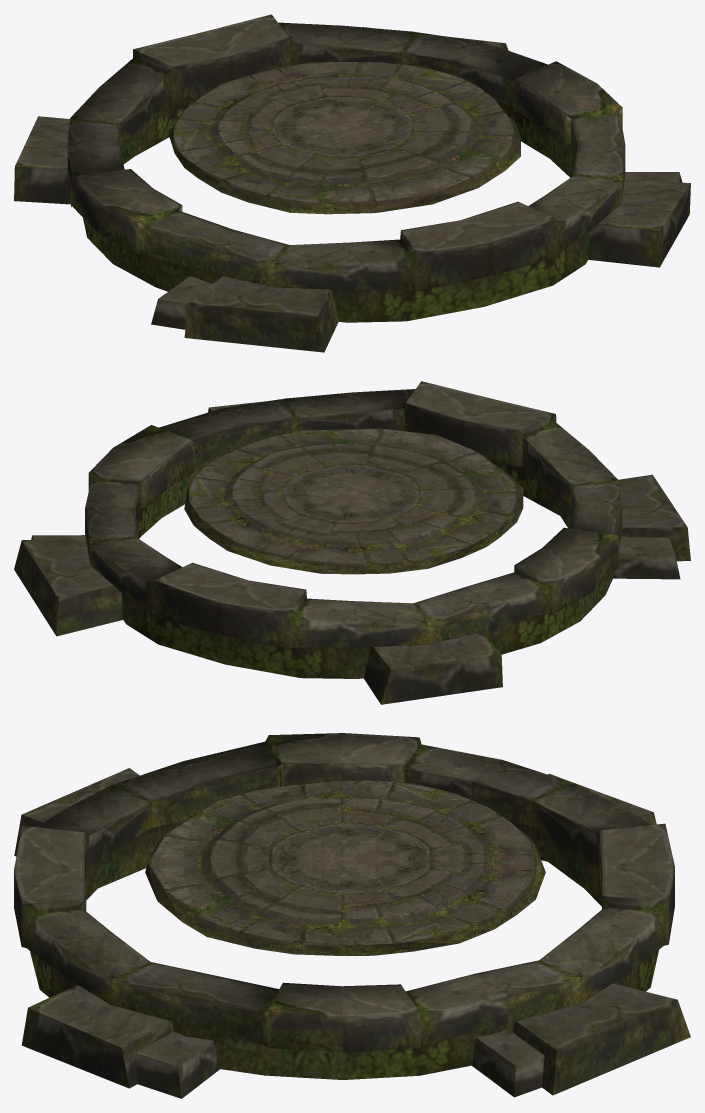
The model's file is f_1128_taizi.FBX.
3 views of the same model, one above another, from view 1: azimuth 30°, elevation 25°; view 2: azimuth 150°, elevation 25°; view 3: azimuth 270°, elevation 25° (orthographic). The views are drawn at different scales.
Visible parts, largest first — view 1: d_1140_windmill001, f_1128_taizi; view 2: d_1140_windmill001, f_1128_taizi; view 3: d_1140_windmill001, f_1128_taizi.
Part boxes in pixels (x1=…): d_1140_windmill001: x1=14, y1=14, x2=690, y2=352; f_1128_taizi: x1=169, y1=61, x2=520, y2=214; d_1140_windmill001: x1=14, y1=381, x2=690, y2=704; f_1128_taizi: x1=184, y1=428, x2=523, y2=574; d_1140_windmill001: x1=14, y1=733, x2=690, y2=1098; f_1128_taizi: x1=145, y1=780, x2=545, y2=955.
Size of the model in its own units: 1083 by 151 by 1033.
Materials: 2 (2 with a texture image).
